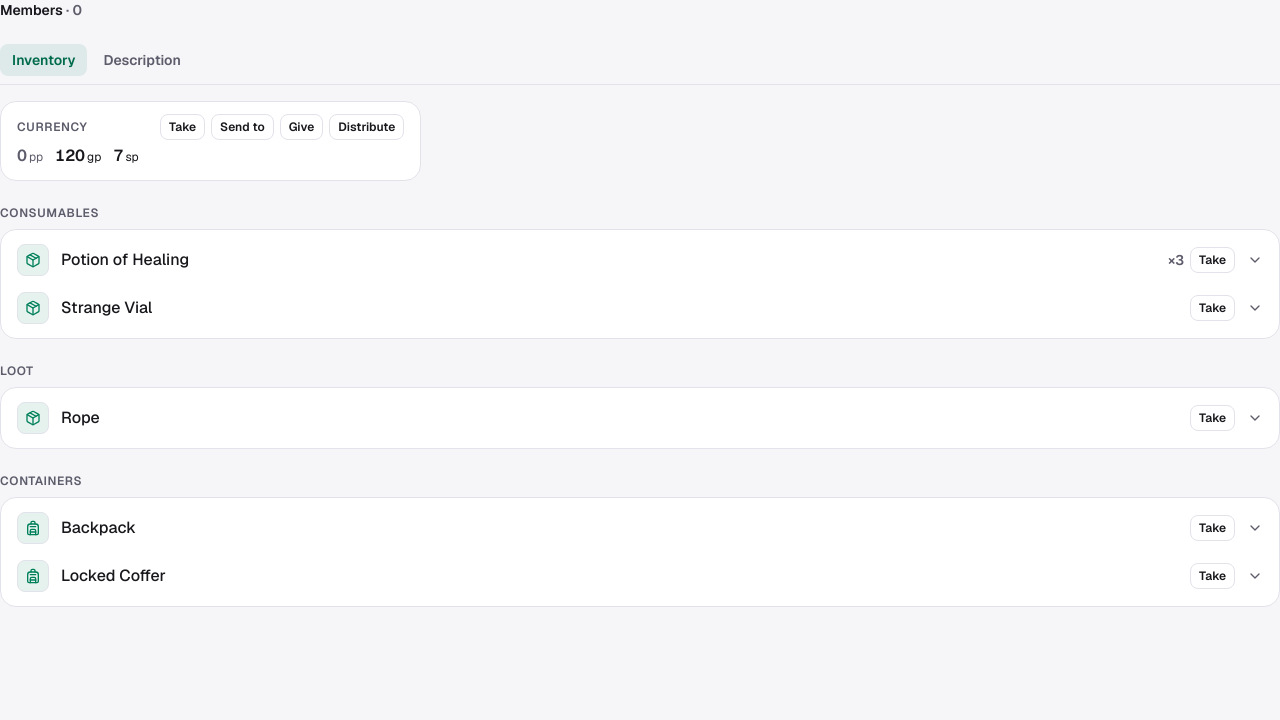
Test: components/character-sheet/item-menu, on a party’s sheet › opens Send to… for the party’s item, whose To lacks the party
The width and height of the screenshot is (1280, 720).
Right-click the heading "Rope Take" at {"x": 33, "y": 418}, box x1=7 y1=394 x2=1273 y2=442
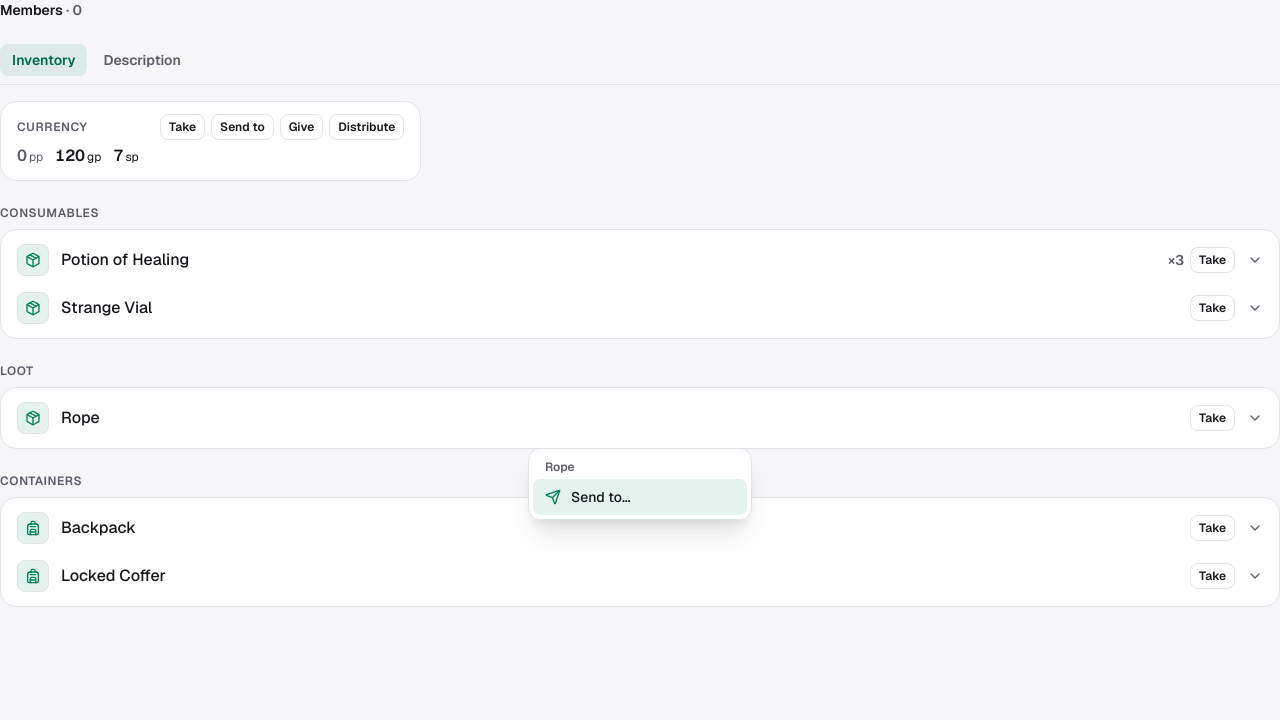
Click the menu item "Send to…" at {"x": 640, "y": 497}, box x1=533 y1=479 x2=747 y2=515
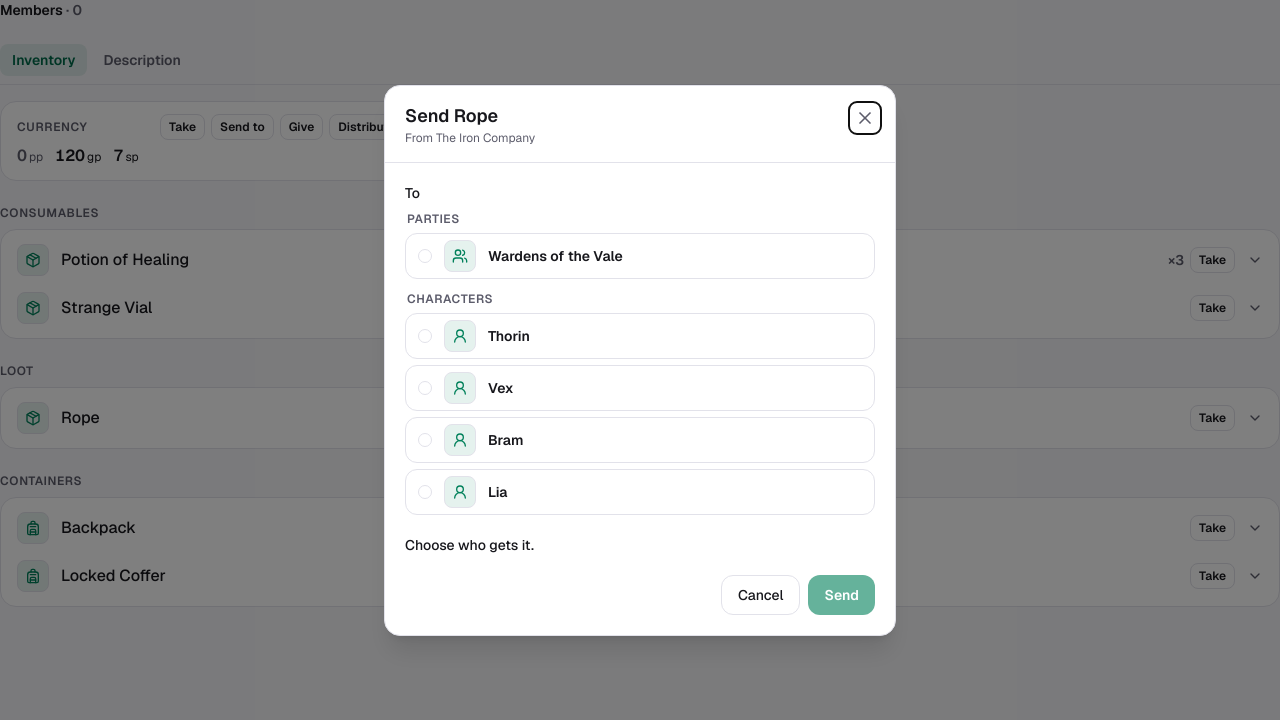
Expected: the text "From The Iron Company" is shown, x1=405 y1=130 x2=535 y2=146
